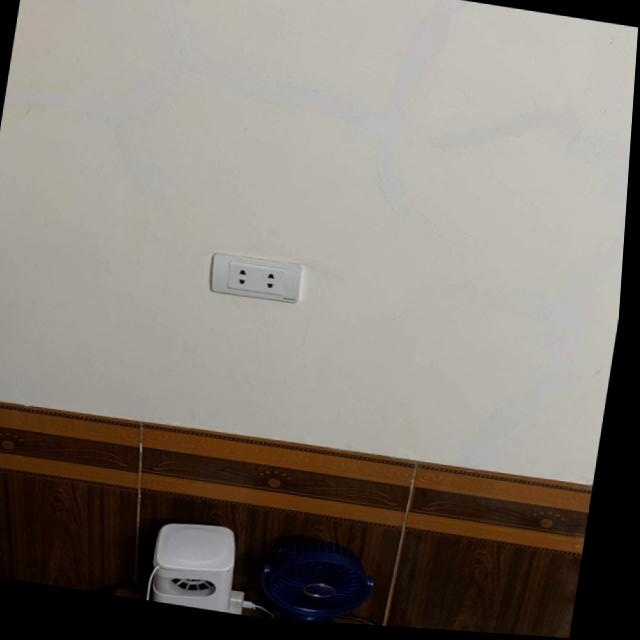outlet: (208, 249, 306, 305)
